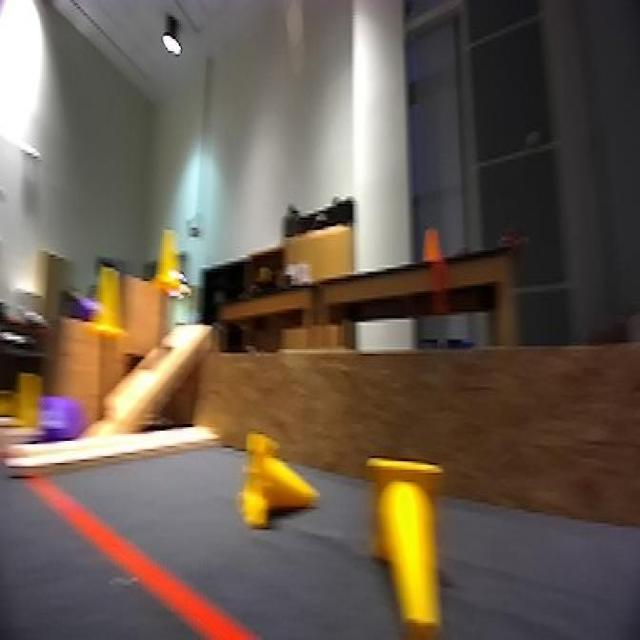frc_cone: (362, 456, 447, 640), (235, 429, 318, 538), (88, 257, 123, 347), (154, 228, 187, 306), (19, 376, 39, 427)
frc_cube: (34, 397, 76, 448), (70, 290, 92, 324)
